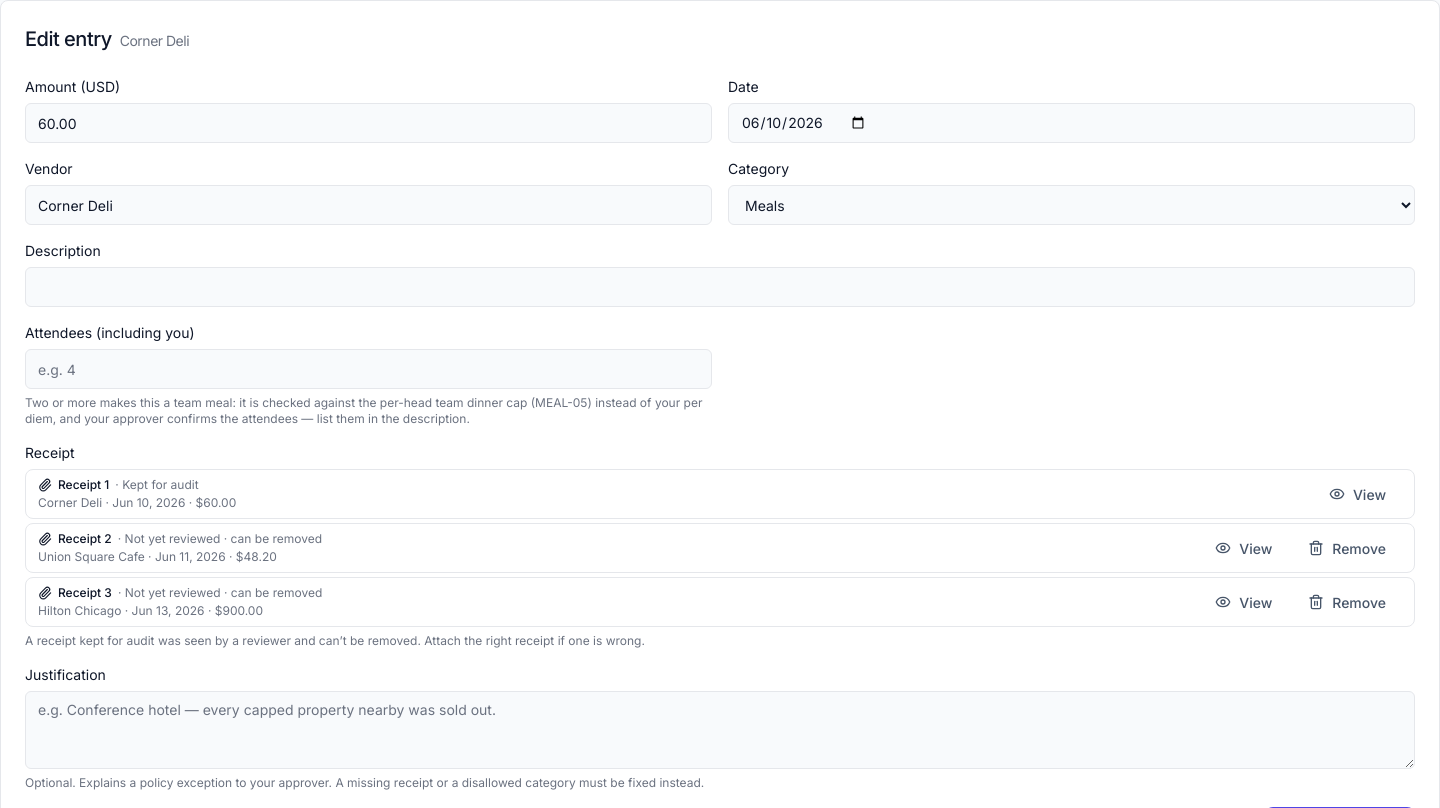
Test: the entry editor's receipt list (defect H) › no servable link: the preview says so and offers no new-tab link
Click the button with aria-label "View receipt 2". click: [1244, 548]
box: [1199,530,1288,566]
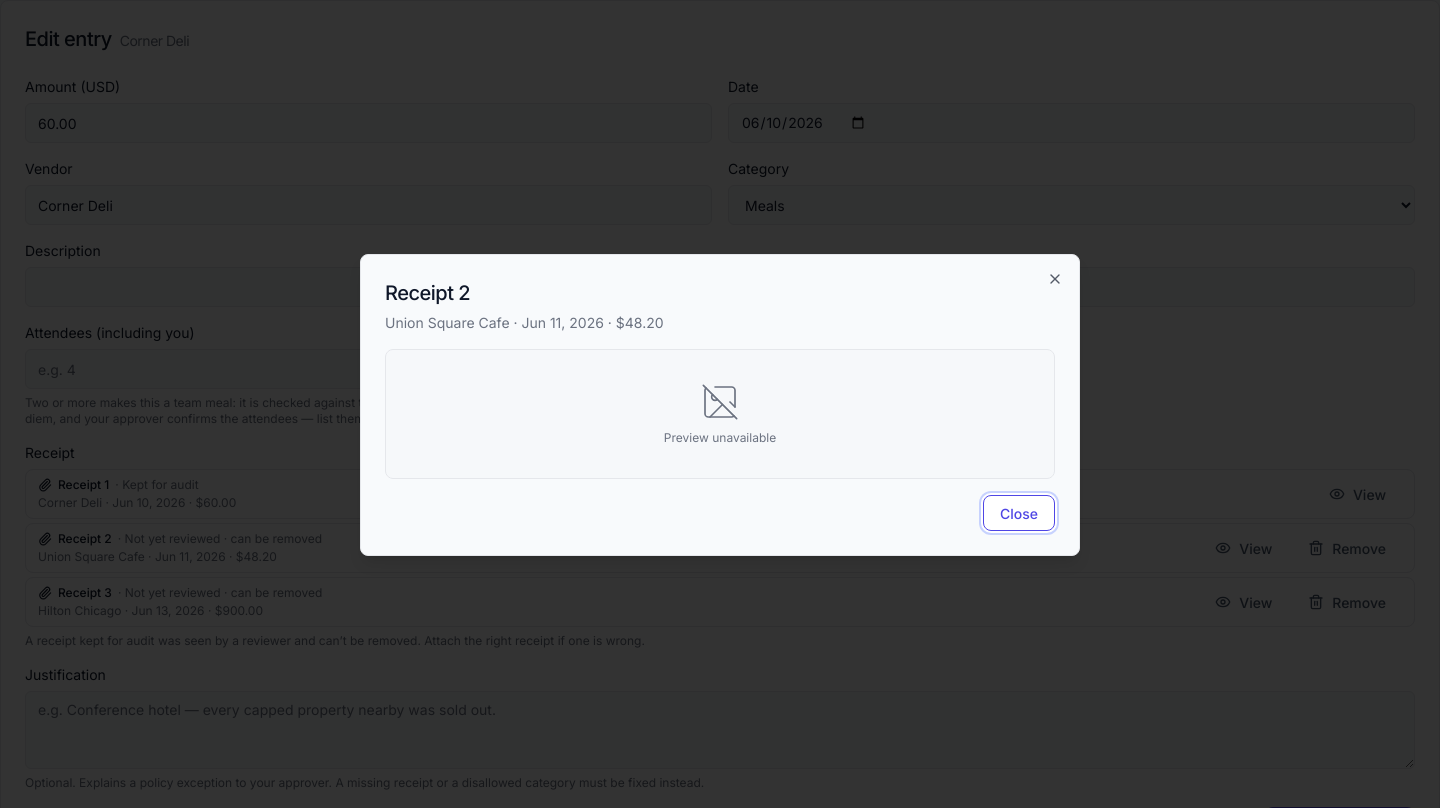
Expected: the dialog "Receipt 2" shows "Preview unavailable", [664,430,776,445]
